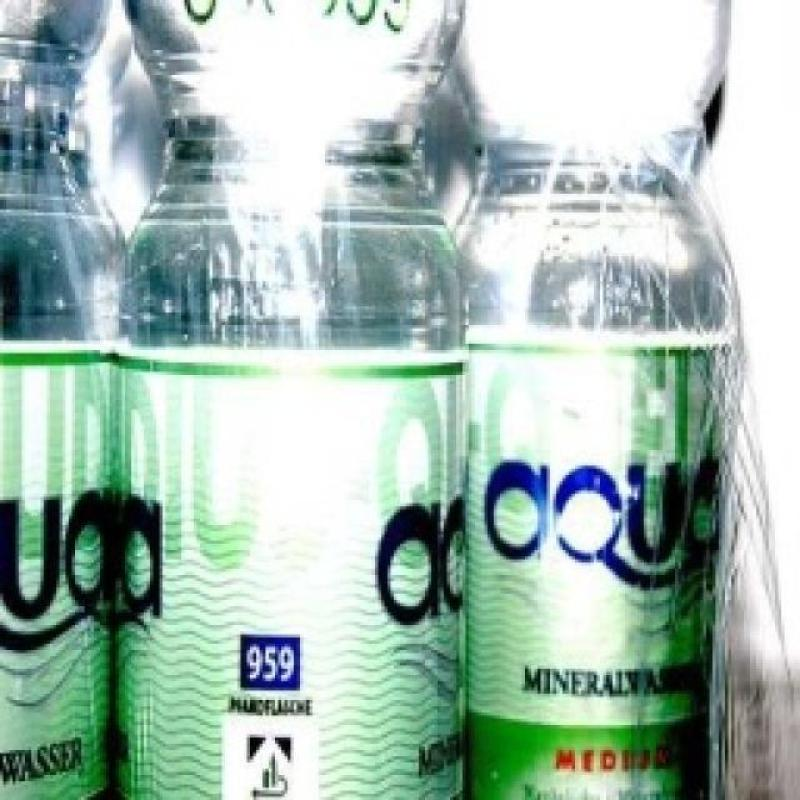botella: (123, 0, 467, 800), (454, 0, 734, 800), (0, 0, 119, 800)
